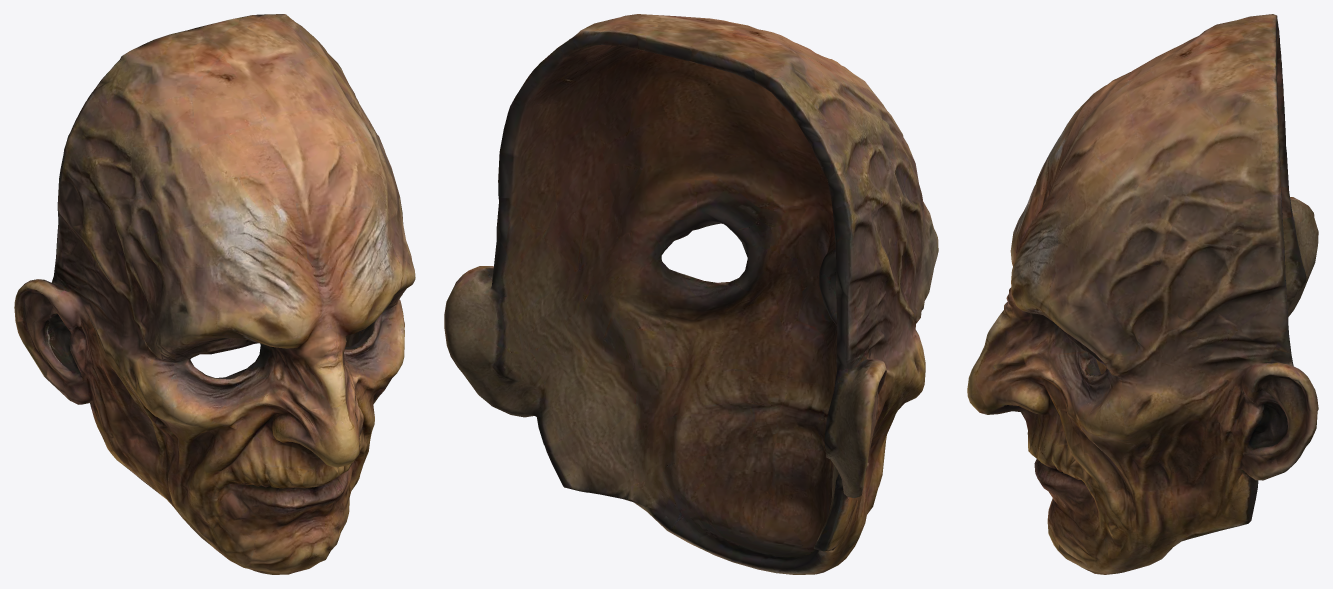
Rendered from terror.glb.
3 views of the same model, side by side, from view 1: azimuth 30°, elevation 25°; view 2: azimuth 150°, elevation 25°; view 3: azimuth 270°, elevation 25° (orthographic). The views are drawn at different scales.
Bounding box in the file's own units: 1.43 × 1.9 × 1.17.
Materials: 1 (1 with a texture image).
